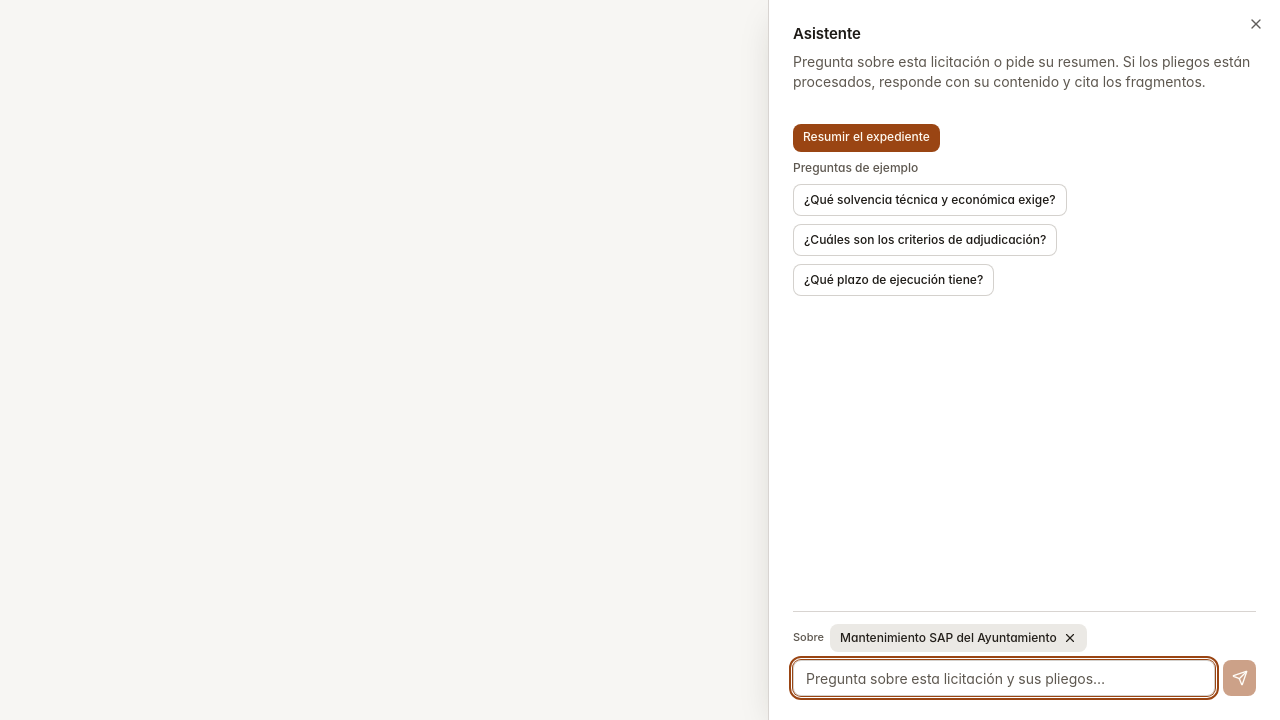
Test case: AsistentePanel › quitar un expediente del alcance lo saca de la siguiente pregunta
Click the button "Mantenimiento SAP del Ayuntamiento" at (958, 638), box [830,624,1087,652]
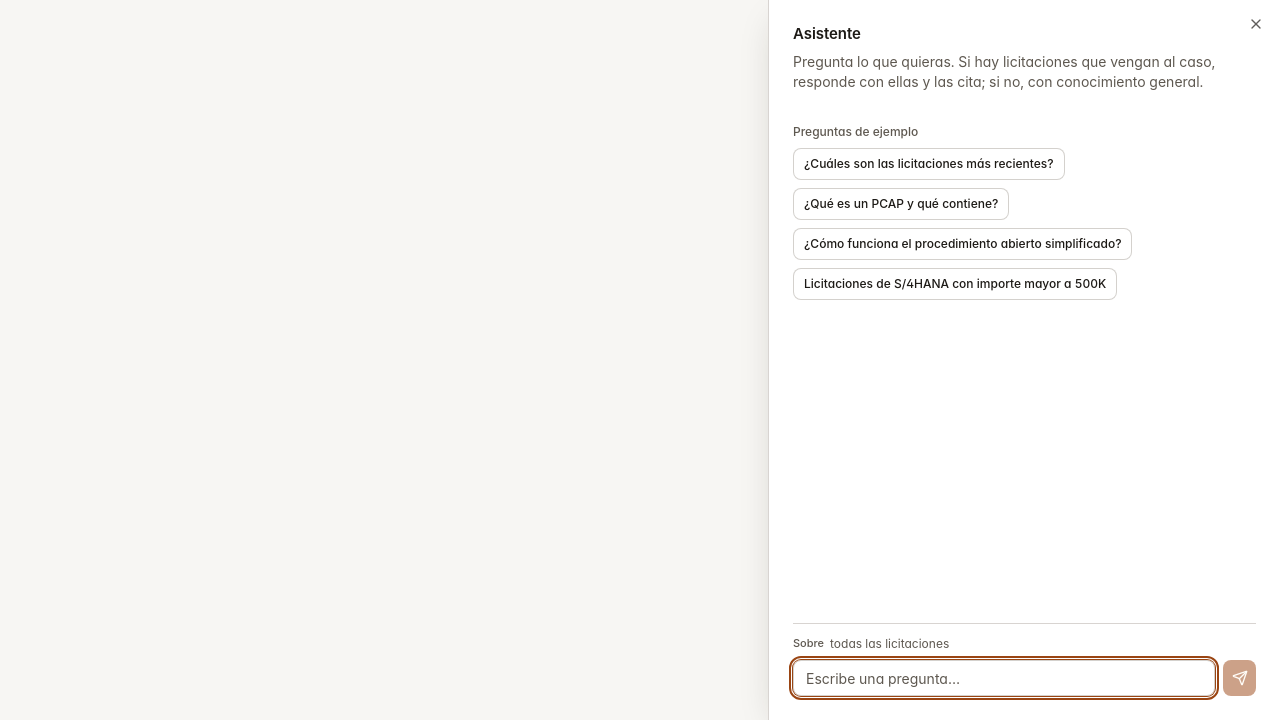
Result: the text "todas las licitaciones" is shown at [830,636,949,652]
